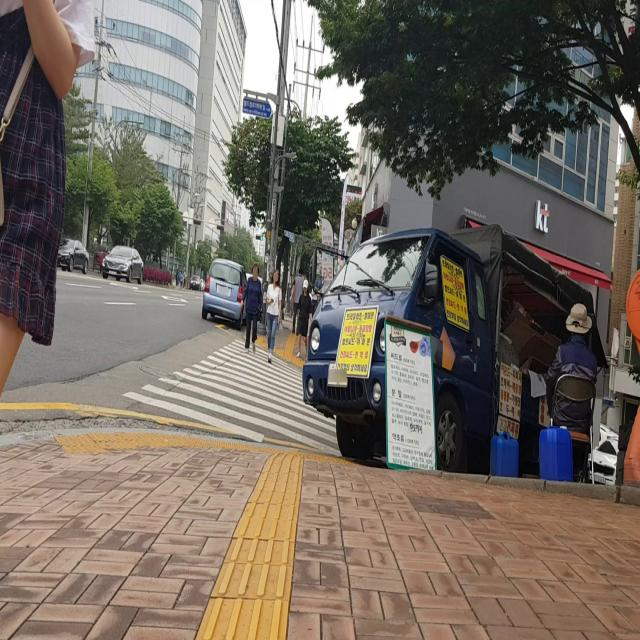횡단보도: (120, 333, 342, 458)
